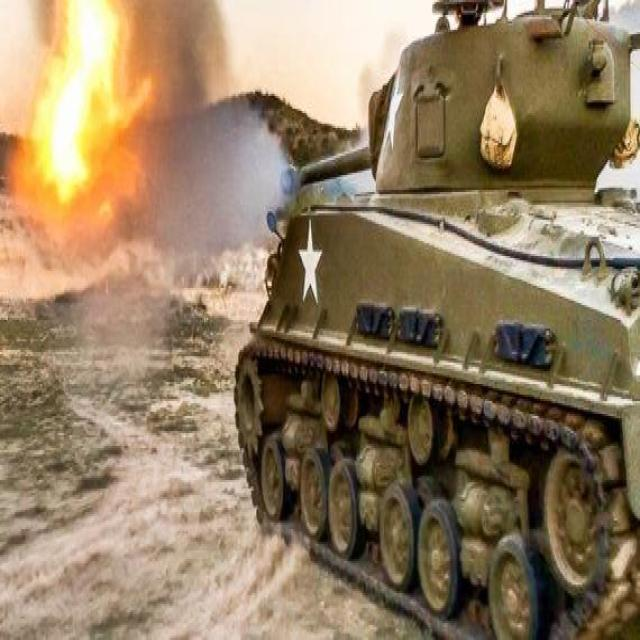Tanks: (265, 153, 618, 609)
